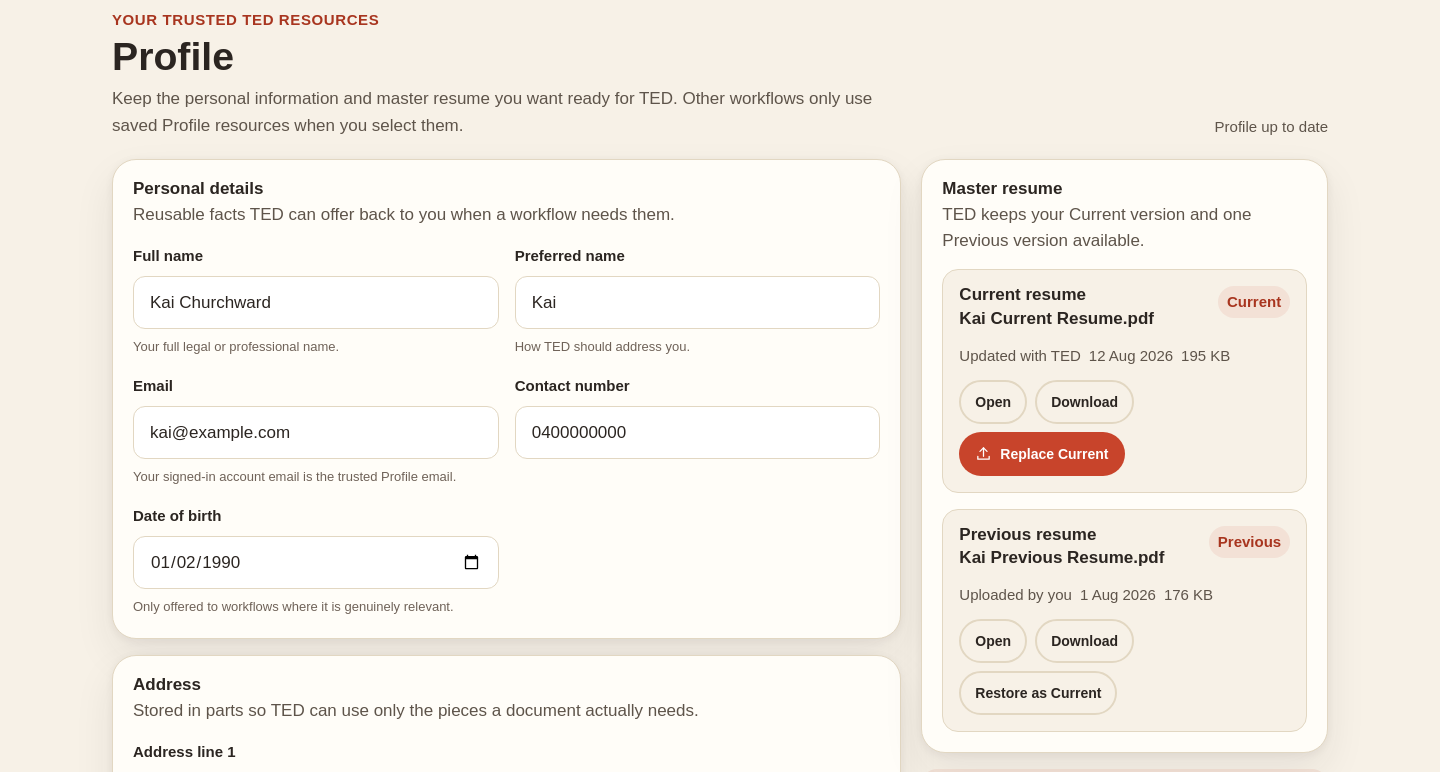
ProfilePage › cancels a pending resume download on unmount and never clicks a late link
The width and height of the screenshot is (1440, 772).
Click the button "Download" below "Updated with TED": (1085, 402) [1035,380,1134,424]
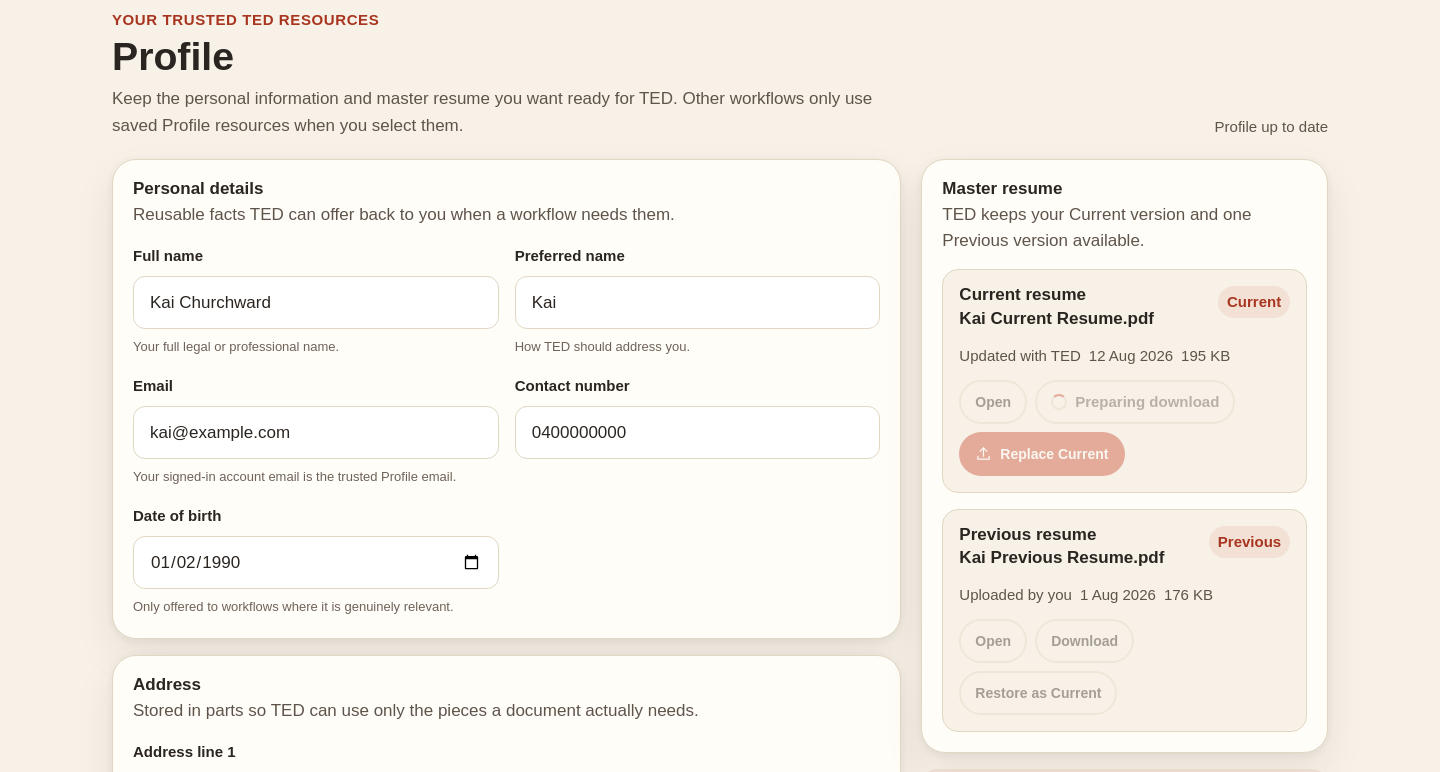
Expected: the message reads "Preparing download", [1075,393,1219,410]
